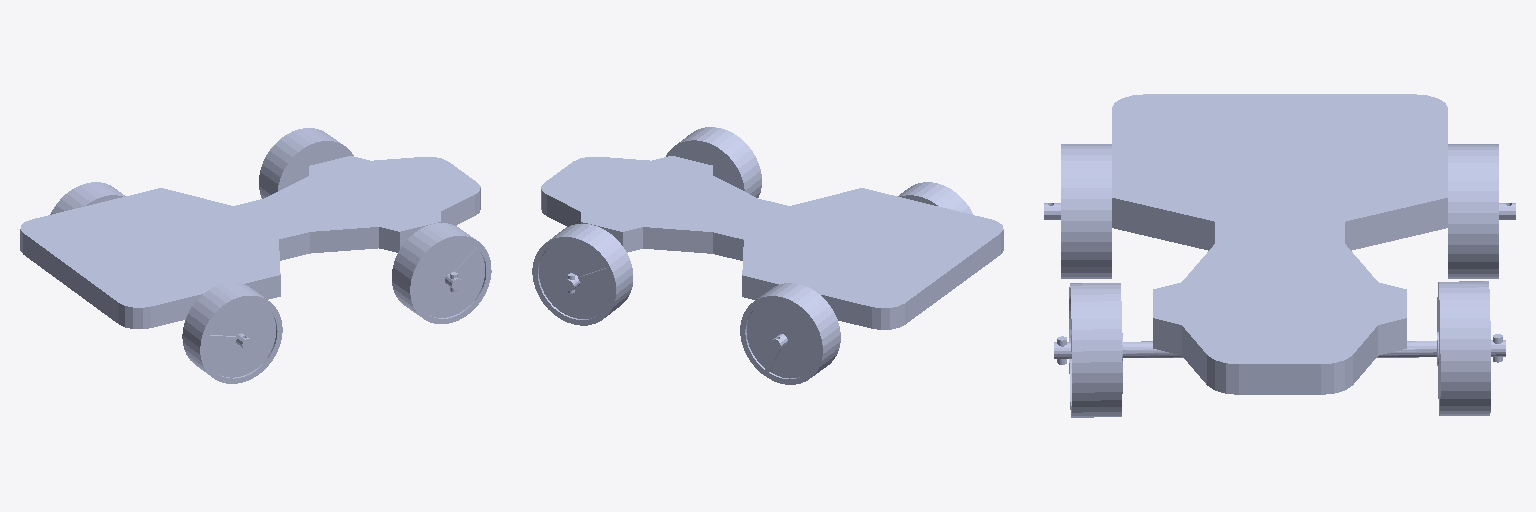
URDF robot description (car_assem):
<?xml version="1.0" ?>
<!-- =================================================================================== -->
<!-- |    This document was autogenerated by xacro from my_robot_integration.urdf.xacro | -->
<!-- |    EDITING THIS FILE BY HAND IS NOT RECOMMENDED                                 | -->
<!-- =================================================================================== -->
<!-- Name your robot here -->
<robot name="car_assem">
  <link name="dummy_link">
  </link>
  <joint name="dummy_joint" type="fixed">
    <origin rpy="0 0 0" xyz="1 1 1"/>
    <parent link="dummy_link"/>
    <child link="base_link"/>
  </joint>
  <link name="base_link">
    <inertial>
      <origin rpy="0 0 0" xyz="-0.00928225892424905 -3.84853373613936E-08 -0.0279829948416439"/>
      <mass value="18.9957633941014"/>
      <inertia ixx="0.321480497658355" ixy="-4.49226682044018E-08" ixz="-0.00882534016113908" iyy="1.42813532065719" iyz="-7.09701033377331E-08" izz="1.73624351581292"/>
    </inertial>
    <visual>
      <origin rpy="0 0 0" xyz="0 0 0"/>
      <geometry>
        <mesh filename="package://car_assem/meshes/base_link.STL"/>
      </geometry>
      <material name="">
        <color rgba="0.792156862745098 0.819607843137255 0.933333333333333 1"/>
      </material>
    </visual>
    <collision>
      <origin rpy="0 0 0" xyz="0 0 0"/>
      <geometry>
        <mesh filename="package://car_assem/meshes/base_link.STL"/>
      </geometry>
    </collision>
  </link>
  <link name="front_left_steering_link">
    <inertial>
      <origin rpy="0 0 0" xyz="0.0789613521158623 -0.0460215670948286 -7.01327474983415E-08"/>
      <mass value="0.130435980995533"/>
      <inertia ixx="3.04982371151654E-05" ixy="4.9215344508306E-05" ixz="-8.19738919364723E-10" iyy="0.000537452105458135" iyz="3.34922488643002E-10" izz="0.000556335665656311"/>
    </inertial>
    <visual>
      <origin rpy="0 0 0" xyz="0 0 0"/>
      <geometry>
        <mesh filename="package://car_assem/meshes/front_left_steering_link.STL"/>
      </geometry>
      <material name="">
        <color rgba="0.792156862745098 0.819607843137255 0.933333333333333 1"/>
      </material>
    </visual>
    <collision>
      <origin rpy="0 0 0" xyz="0 0 0"/>
      <geometry>
        <mesh filename="package://car_assem/meshes/front_left_steering_link.STL"/>
      </geometry>
    </collision>
  </link>
  <joint name="front_left_steering" type="revolute">
    <origin rpy="1.5708 0 1.5952" xyz="0.33413 0.14861 -0.0254"/>
    <parent link="base_link"/>
    <child link="front_left_steering_link"/>
    <axis xyz="0 1 0"/>
    <limit effort="0" lower="-0.35" upper="0.35" velocity="0"/>
  </joint>
      <transmission name="left_steering_transmission">
      <type>transmission_interface/SimpleTransmission</type>
      <joint name="front_left_steering">
        <hardwareInterface>hardware_interface/EffortJointInterface</hardwareInterface>
      </joint>
      <actuator name="left_steering_transmission_motor">
        <mechanicalReduction>1</mechanicalReduction>
        <hardwareInterface>hardware_interface/EffortJointInterface</hardwareInterface>
      </actuator>
    </transmission>
  <link name="front_left_wheel_link">
    <inertial>
      <origin rpy="0 0 0" xyz="0.0429772351798594 8.63814757829373E-05 7.7715611723761E-16"/>
      <mass value="2.31289269458194"/>
      <inertia ixx="0.0122648275270047" ixy="-7.4719715078779E-06" ixz="-1.76860479386698E-18" iyy="0.00714411189689047" iyz="-3.68776969410841E-19" izz="0.00715609598929908"/>
    </inertial>
    <visual>
      <origin rpy="0 0 0" xyz="0 0 0"/>
      <geometry>
        <mesh filename="package://car_assem/meshes/front_left_wheel_link.STL"/>
      </geometry>
      <material name="">
        <color rgba="0.792156862745098 0.819607843137255 0.933333333333333 1"/>
      </material>
    </visual>
    <collision>
      <origin rpy="0 0 0" xyz="0 0 0"/>
      <geometry>
        <mesh filename="package://car_assem/meshes/front_left_wheel_link.STL"/>
      </geometry>
    </collision>
  </link>
  <joint name="front_left_wheel" type="continuous">
    <origin rpy="-1.0749 0 0" xyz="0.084724 -0.0508 0"/>
    <parent link="front_left_steering_link"/>
    <child link="front_left_wheel_link"/>
    <axis xyz="1 0 0"/>
  </joint>
  <link name="front_right_steering_link">
    <inertial>
      <origin rpy="0 0 0" xyz="0.0789613530952155 -0.04602156711067 -7.01499886096579E-08"/>
      <mass value="0.13043597902095"/>
      <inertia ixx="3.04982371036657E-05" ixy="4.9215344446361E-05" ixz="-8.19722506991863E-10" iyy="0.000537452104619414" iyz="3.34926809928542E-10" izz="0.00055633566482944"/>
    </inertial>
    <visual>
      <origin rpy="0 0 0" xyz="0 0 0"/>
      <geometry>
        <mesh filename="package://car_assem/meshes/front_right_steering_link.STL"/>
      </geometry>
      <material name="">
        <color rgba="0.792156862745098 0.819607843137255 0.933333333333333 1"/>
      </material>
    </visual>
    <collision>
      <origin rpy="0 0 0" xyz="0 0 0"/>
      <geometry>
        <mesh filename="package://car_assem/meshes/front_right_steering_link.STL"/>
      </geometry>
    </collision>
  </link>
  <joint name="front_right_steering" type="revolute">
    <origin rpy="1.5708 0 -1.548" xyz="0.33413 -0.14861 -0.0254"/>
    <parent link="base_link"/>
    <child link="front_right_steering_link"/>
    <axis xyz="0 1 0"/>
    <limit effort="0" lower="-0.35" upper="0.35" velocity="0"/>
  </joint>
  <link name="front_right_wheel_link">
    <inertial>
      <origin rpy="0 0 0" xyz="0.042763266193903 8.63814757839365E-05 -1.11022302462516E-16"/>
      <mass value="2.31289269458194"/>
      <inertia ixx="0.0122648275270047" ixy="-7.4719715079482E-06" ixz="2.76810367162705E-17" iyy="0.00714411189689047" iyz="9.77052504657835E-19" izz="0.00715609598929908"/>
    </inertial>
    <visual>
      <origin rpy="0 0 0" xyz="0 0 0"/>
      <geometry>
        <mesh filename="package://car_assem/meshes/front_right_wheel_link.STL"/>
      </geometry>
      <material name="">
        <color rgba="0.792156862745098 0.819607843137255 0.933333333333333 1"/>
      </material>
    </visual>
    <collision>
      <origin rpy="0 0 0" xyz="0 0 0"/>
      <geometry>
        <mesh filename="package://car_assem/meshes/front_right_wheel_link.STL"/>
      </geometry>
    </collision>
  </link>
  <joint name="front_right_wheel" type="continuous">
    <origin rpy="-0.90183 0 0" xyz="0.084938 -0.0508 0"/>
    <parent link="front_right_steering_link"/>
    <child link="front_right_wheel_link"/>
    <axis xyz="1 0 0"/>
  </joint>
  <link name="back_left_wheel_link">
    <inertial>
      <origin rpy="0 0 0" xyz="0.0362610763466902 -5.7605388229881E-05 6.43690811298336E-05"/>
      <mass value="2.31289269458194"/>
      <inertia ixx="0.0122648275270047" ixy="4.98284864490567E-06" ixz="-5.56790603340364E-06" iyy="0.00715076644439137" iyz="5.95530937454549E-06" izz="0.00714944144179819"/>
    </inertial>
    <visual>
      <origin rpy="0 0 0" xyz="0 0 0"/>
      <geometry>
        <mesh filename="package://car_assem/meshes/back_left_wheel_link.STL"/>
      </geometry>
      <material name="">
        <color rgba="0.792156862745098 0.819607843137255 0.933333333333333 1"/>
      </material>
    </visual>
    <collision>
      <origin rpy="0 0 0" xyz="0 0 0"/>
      <geometry>
        <mesh filename="package://car_assem/meshes/back_left_wheel_link.STL"/>
      </geometry>
    </collision>
  </link>
  <joint name="back_left_wheel" type="continuous">
    <origin rpy="1.9912 0 1.5708" xyz="-0.18569 0.254 -0.0889"/>
    <parent link="base_link"/>
    <child link="back_left_wheel_link"/>
    <axis xyz="1 0 0"/>
  </joint>
  <link name="back_right_wheel_link">
    <inertial>
      <origin rpy="0 0 0" xyz="0.0362610763466903 8.63814757844361E-05 2.77555756156289E-17"/>
      <mass value="2.31289269458194"/>
      <inertia ixx="0.0122648275270047" ixy="-7.47197150789892E-06" ixz="2.48604170019137E-19" iyy="0.00714411189689046" iyz="0" izz="0.00715609598929908"/>
    </inertial>
    <visual>
      <origin rpy="0 0 0" xyz="0 0 0"/>
      <geometry>
        <mesh filename="package://car_assem/meshes/back_right_wheel_link.STL"/>
      </geometry>
      <material name="">
        <color rgba="0.792156862745098 0.819607843137255 0.933333333333333 1"/>
      </material>
    </visual>
    <collision>
      <origin rpy="0 0 0" xyz="0 0 0"/>
      <geometry>
        <mesh filename="package://car_assem/meshes/back_right_wheel_link.STL"/>
      </geometry>
    </collision>
  </link>
  <joint name="back_right_wheel" type="continuous">
    <origin rpy="2.8541 0 -1.5708" xyz="-0.18569 -0.254 -0.0889"/>
    <parent link="base_link"/>
    <child link="back_right_wheel_link"/>
    <axis xyz="1 0 0"/>
  </joint>
  <link name="base_laser">
    <inertial>
      <origin rpy="0 0 0" xyz="-0.00029774 0.0066667 0.00013047"/>
      <mass value="0.15717"/>
      <inertia ixx="6.7885E-05" ixy="-1.3987E-07" ixz="-8.1554E-07" iyy="0.00013173" iyz="-9.0932E-08" izz="7.1972E-05"/>
    </inertial>
    <visual>
      <origin rpy="0 0 0" xyz="0 0 0"/>
      <geometry>
        <mesh filename="package://car_assem/meshes/ydlidar.dae"/>
      </geometry>
      <material name="">
        <color rgba="0.64706 0.61961 0.58824 1"/>
      </material>
    </visual>
    <collision>
      <origin rpy="0 0 0" xyz="0 0 0"/>
      <geometry>
        <mesh filename="package://car_assem/meshes/ydlidar.dae"/>
      </geometry>
    </collision>
  </link>
  <link name="laser_frame">
    <inertial>
      <origin rpy="0 0 0" xyz="-0.00036659 0.00064155 -0.00027052"/>
      <mass value="0.25482"/>
      <inertia ixx="8.9194E-05" ixy="1.8116E-07" ixz="3.6435E-08" iyy="0.00018279" iyz="2.423E-07" izz="0.00011103"/>
    </inertial>
    <!--visual>
      <origin
        xyz="0 0 0"
        rpy="0 0 0" />
      <geometry>
        <mesh
          filename="package://ydlidar_ros/meshes/ydlidar.dae" />
      </geometry>
      <material
        name="">
        <color
          rgba="0.64706 0.61961 0.58824 1" />
      </material>
    </visual-->
    <!--collision>
      <origin
        xyz="0 0 0"
        rpy="0 0 0" />
      <geometry>
        <mesh
          filename="package://ydlidar_ros/meshes/ydlidar.dae" />
      </geometry>
    </collision-->
  </link>
  <joint name="laser_joint" type="fixed">
    <origin rpy="0 0 0" xyz="0 0 0.03172"/>
    <parent link="base_laser"/>
    <child link="laser_frame"/>
    <axis xyz="0 0 0"/>
  </joint>
  <!-- Add your gazebo sensors here -->
  <gazebo reference="base_laser">
    <!-- <gravity>true</gravity> -->
    <!-- Gazebo has fixed set of Sensors types. Check them out here <> -->
    <sensor name="laser" type="ray">
      <!-- Add in your sensor characteristics -->
      <pose> -0.00029774 0.0066667 0.00013047 0 0 0 </pose>
      <visualise>true</visualise>
      <update_rate>40</update_rate>
      <!-- <always_on>true</always_on> -->
      <ray>
        <scan>
          <horizontal>
            <samples>720</samples>
            <resolution>1</resolution>
            <min_angle>-1.570796</min_angle>
            <max_angle>1.570796</max_angle>
          </horizontal>
        </scan>
        <range>
          <min>0.10</min>
          <max>30.0</max>
          <resolution>0.01</resolution>
        </range>
        <noise>
          <type>gaussian</type>
          <mean>0.0</mean>
          <stddev>0.01</stddev>
        </noise>
      </ray>
      <plugin filename="libgazebo_ros_laser.so" name="gazebo_ros_head_hokuyo_controller">
        <!-- Use topic name as /my_robot/scan -->
        <topicName>/my_robot/scan</topicName>
        <frameName>laser_frame</frameName>
      </plugin>
    </sensor>
  </gazebo>
  <!--  Gazebo plugin for control here is already added for you -->
  <gazebo>
    <plugin filename="libgazebo_ros_control.so" name="gazebo_ros_control">
      <robotNamespace>/car_assem</robotNamespace>
      <robotSimType>gazebo_ros_control/DefaultRobotHWSim</robotSimType>
      <legacyModeNS>true</legacyModeNS>
    </plugin>
  </gazebo>
  <!-- Create a joint between your robot and sensor -->
  <joint name="lidarGlue" type="fixed">
    <parent link="base_link"/>
    <child link="base_laser"/>
    <origin rpy="0 0 0" xyz="0 0 0"/>
  </joint>
</robot>

--- What the picture shows (computed from the rendered views, not written in the file) ---
3 views of the same robot in one strip: view 1: azimuth 30°, elevation 25°; view 2: azimuth 150°, elevation 25°; view 3: azimuth 270°, elevation 25° (orthographic).
Robot: car_assem — 10 links, 9 joints (2 revolute, 4 continuous, 3 fixed); root link dummy_link; default pose: all joints at 0.
Links seen in each view (by area): view 1: base_link, back_right_wheel_link, front_right_wheel_link, front_left_wheel_link, back_left_wheel_link; view 2: base_link, back_left_wheel_link, front_left_wheel_link, front_right_wheel_link, back_right_wheel_link; view 3: base_link, front_left_wheel_link, front_right_wheel_link, back_left_wheel_link, back_right_wheel_link, front_right_steering_link, front_left_steering_link.
Boxes of the visible links, left/top/right/bottom form: base_link: left=20, top=156, right=480, bottom=349; back_right_wheel_link: left=182, top=282, right=282, bottom=383; front_right_wheel_link: left=392, top=223, right=491, bottom=323; front_left_wheel_link: left=259, top=128, right=353, bottom=198; back_left_wheel_link: left=50, top=182, right=125, bottom=214; base_link: left=541, top=156, right=1003, bottom=349; back_left_wheel_link: left=740, top=283, right=840, bottom=384; front_left_wheel_link: left=532, top=224, right=632, bottom=325; front_right_wheel_link: left=666, top=127, right=761, bottom=197; back_right_wheel_link: left=898, top=182, right=972, bottom=214; base_link: left=1044, top=94, right=1515, bottom=394; front_left_wheel_link: left=1437, top=281, right=1490, bottom=415; front_right_wheel_link: left=1069, top=283, right=1122, bottom=417; back_left_wheel_link: left=1448, top=144, right=1498, bottom=278; back_right_wheel_link: left=1061, top=144, right=1111, bottom=278; front_right_steering_link: left=1054, top=333, right=1182, bottom=364; front_left_steering_link: left=1377, top=332, right=1505, bottom=365.
Bounding box of the posed robot: 0.9652 × 0.7112 × 0.2159 m (x, y, z).
7 mesh visuals loaded from 8 distinct referenced files (7 binary STL); not drawn: 1 (reference not matched to a file when rendering).
